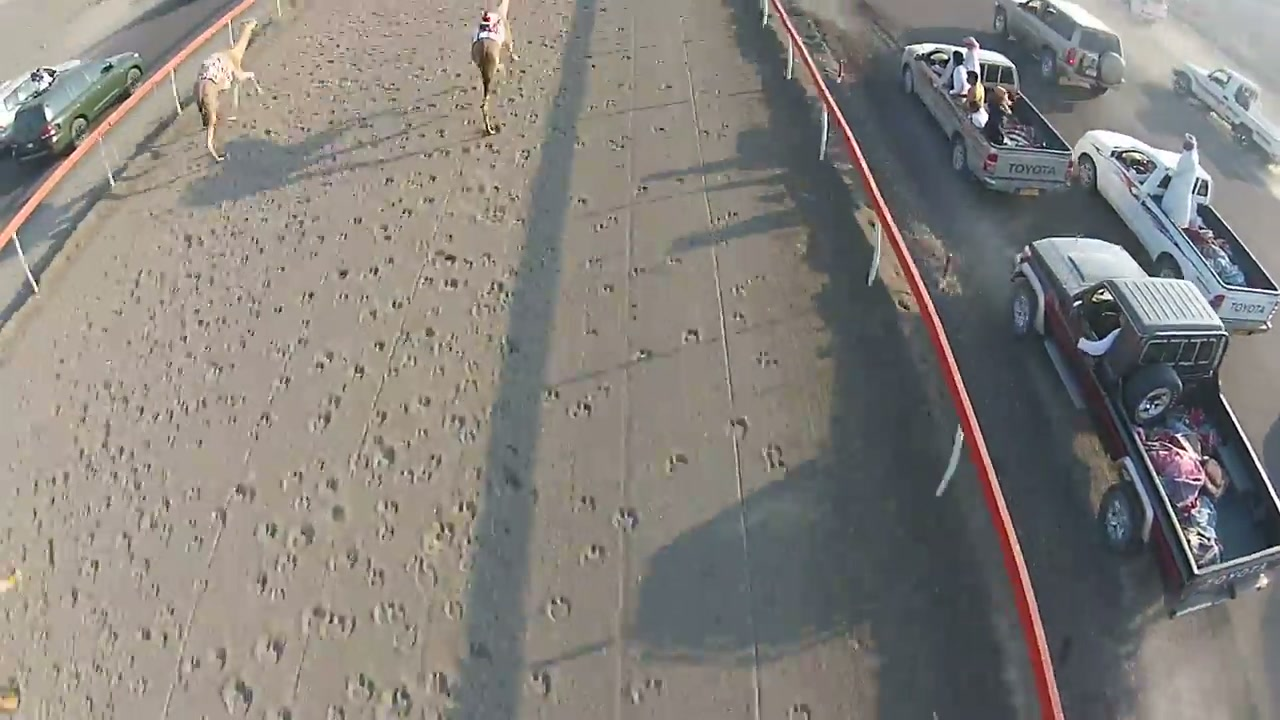animal_foot_print: (253, 109, 535, 718), (537, 104, 726, 719)
